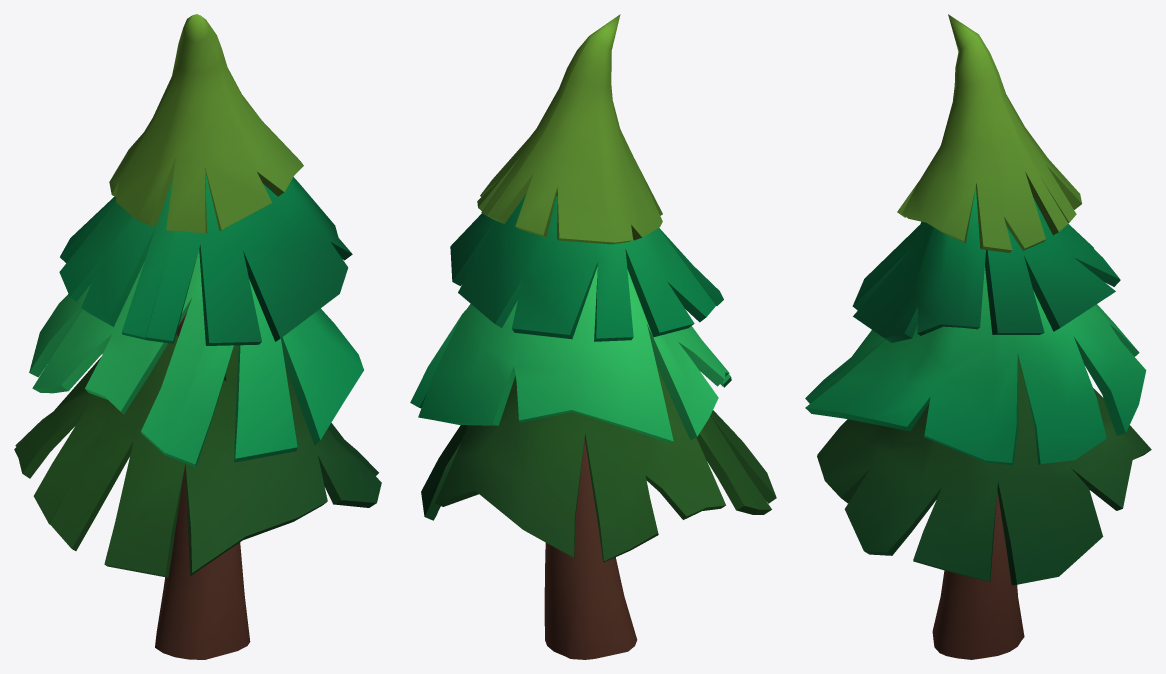
The model's file is Arbol1_v3.fbx.
3 renders of one model, left to right at view 1: azimuth 30°, elevation 25°; view 2: azimuth 150°, elevation 25°; view 3: azimuth 270°, elevation 25°, orthographic. The views are drawn at different scales.
Visible parts, largest first — view 1: Arbol1; view 2: Arbol1; view 3: Arbol1.
Part boxes in pixels (x1,y1,x2,y2): Arbol1: (14, 14, 381, 659); Arbol1: (410, 14, 776, 659); Arbol1: (805, 14, 1151, 659).
Bounding box in the file's own units: 3.69 × 7.02 × 3.58.
